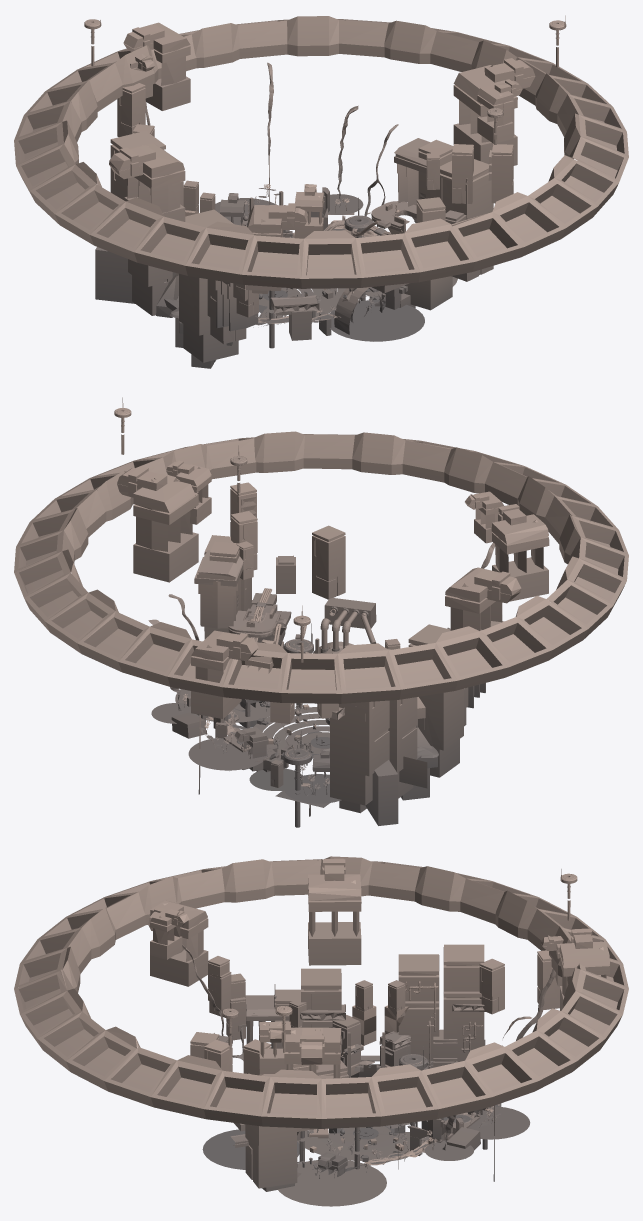
The model's file is repurposed-crater.glb.
3 views of the same model, one above another, from view 1: azimuth 30°, elevation 25°; view 2: azimuth 150°, elevation 25°; view 3: azimuth 270°, elevation 25° (orthographic).
Bounding box in the file's own units: 851 × 446 × 851.
